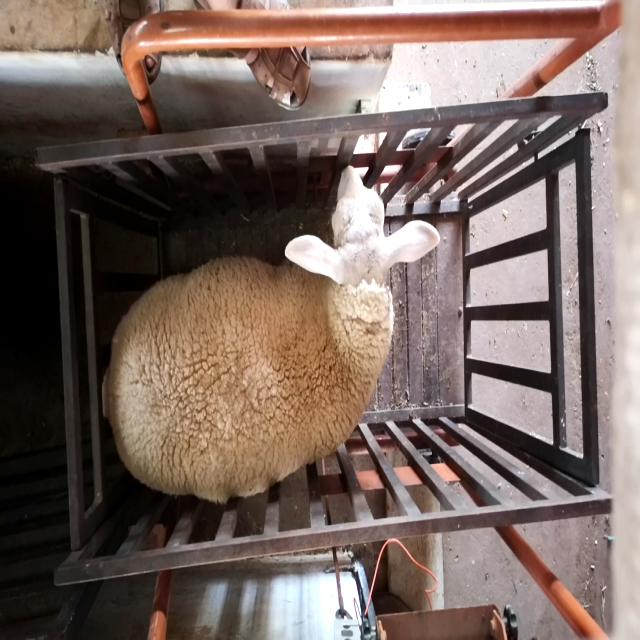sheep: (101, 165, 441, 506)
